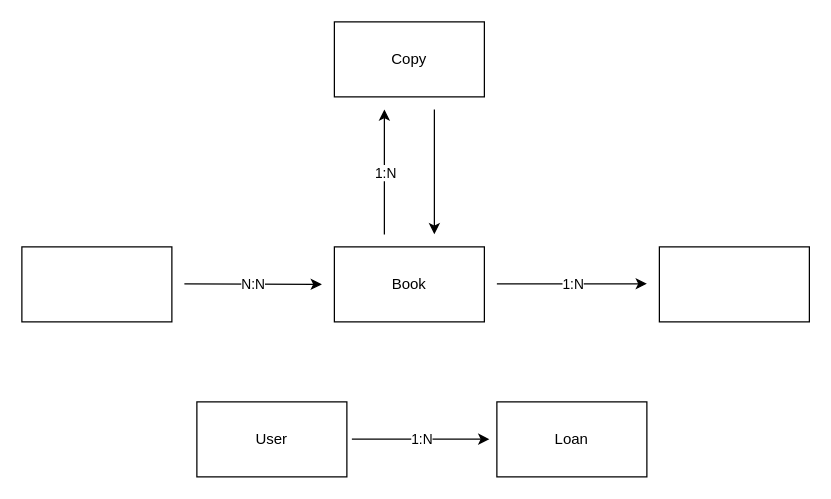
The diagram is 831 pixels wide and 499 high, and some of its shapes have lost their labels. The centre of each missing label's shape, as x and y in pixels:
"Author" goes at point 96,284.
"Category" goes at point 733,284.
